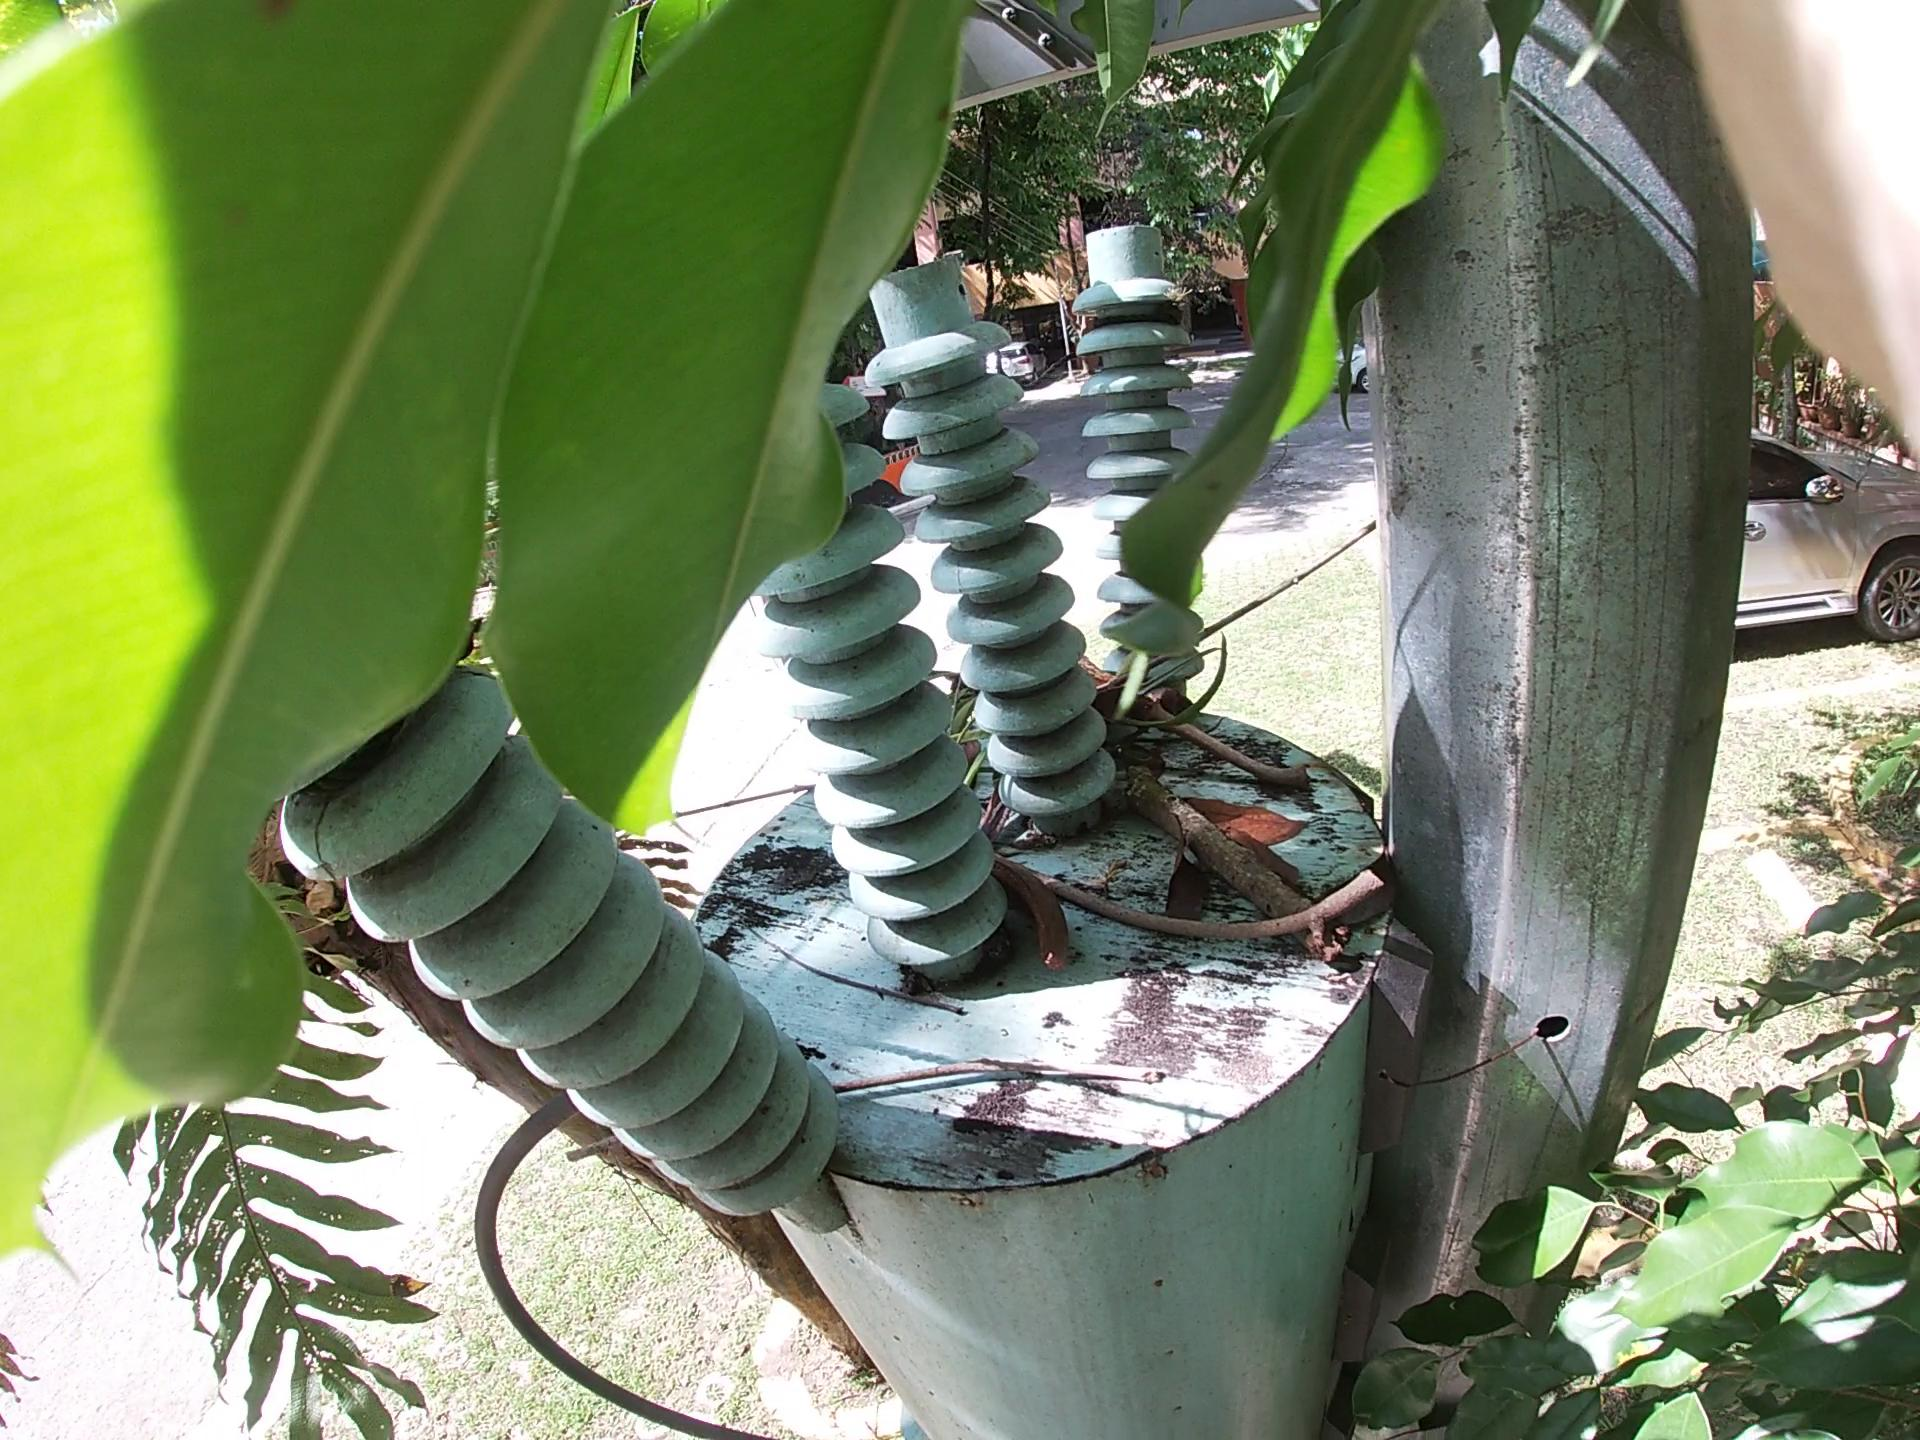branch with leaves: (1033, 635, 1519, 1230)
leaf: (1108, 753, 1324, 977)
tree branch: (1020, 431, 1504, 715), (1028, 861, 1521, 1038), (819, 1026, 1277, 1162)
